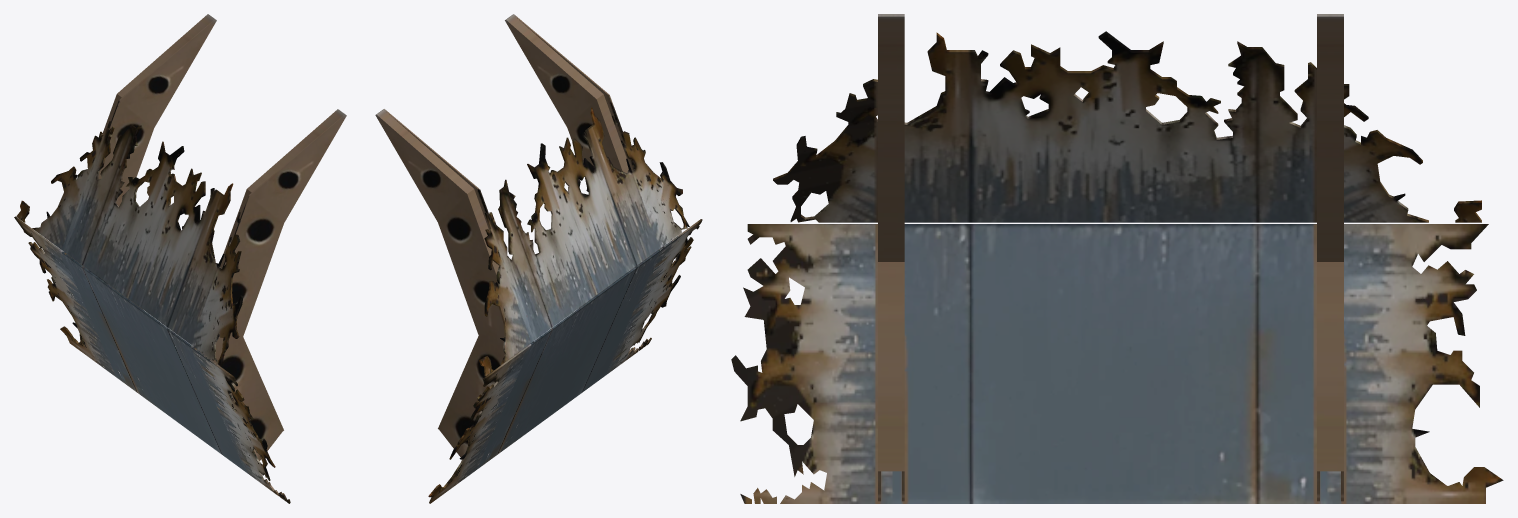
The model's file is crashrib_cad.glb.
3 views of the same model, side by side, from view 1: azimuth 30°, elevation 25°; view 2: azimuth 150°, elevation 25°; view 3: azimuth 270°, elevation 25° (orthographic). The views are drawn at different scales.
Parts seen in each view (by area): view 1: Crash Rib; view 2: Crash Rib; view 3: Crash Rib.
Part boxes in pixels (x1,y1,x2,y2): Crash Rib: [14, 14, 346, 503]; Crash Rib: [375, 14, 702, 503]; Crash Rib: [731, 14, 1503, 503].
Bounding box in the file's own units: 8.08 × 17.04 × 20.96.
1 material, 1 textured.
